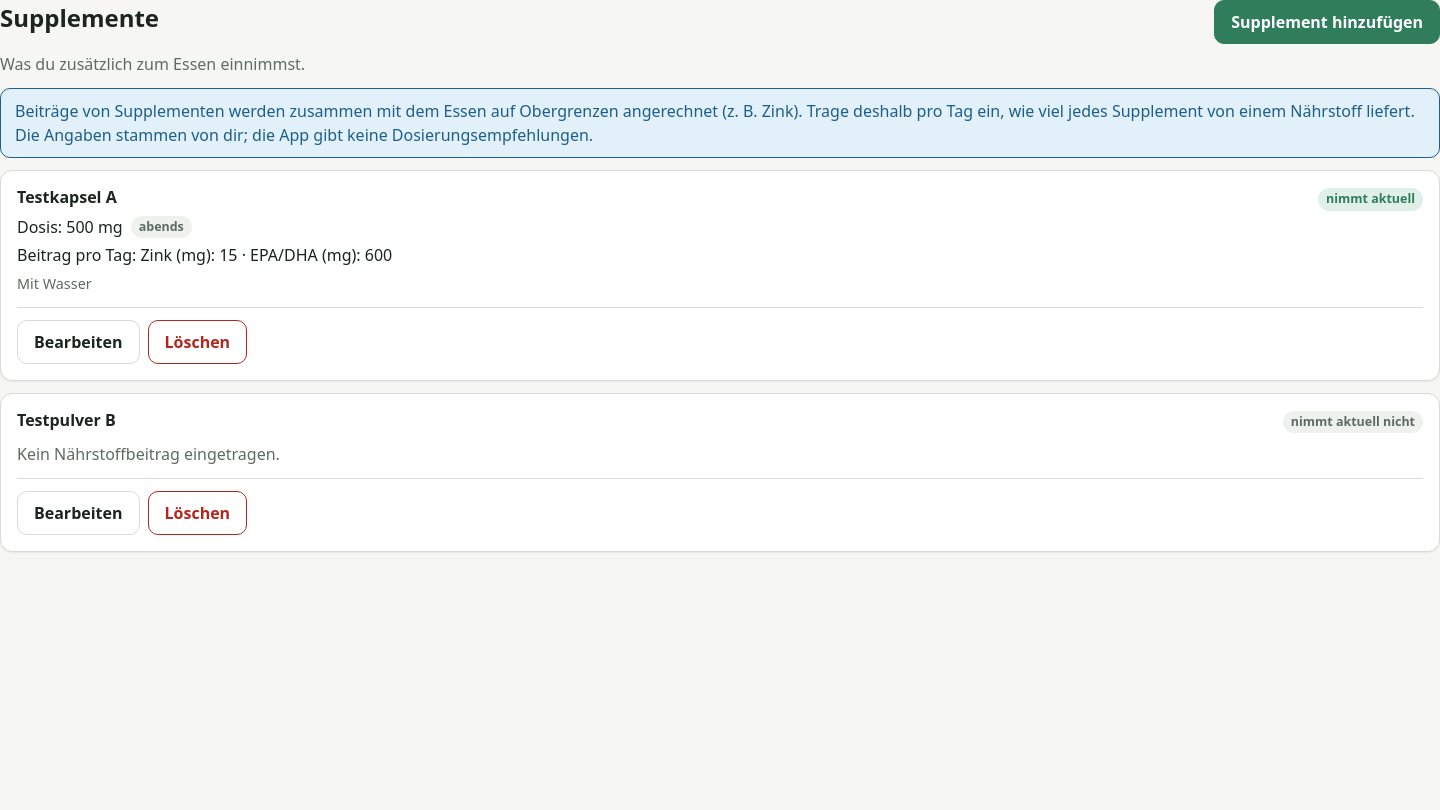
Test: Supplemente › löscht nach Rückfrage
Click the button with aria-label "Testpulver B löschen" at point(197, 513), box [148,491,247,535]
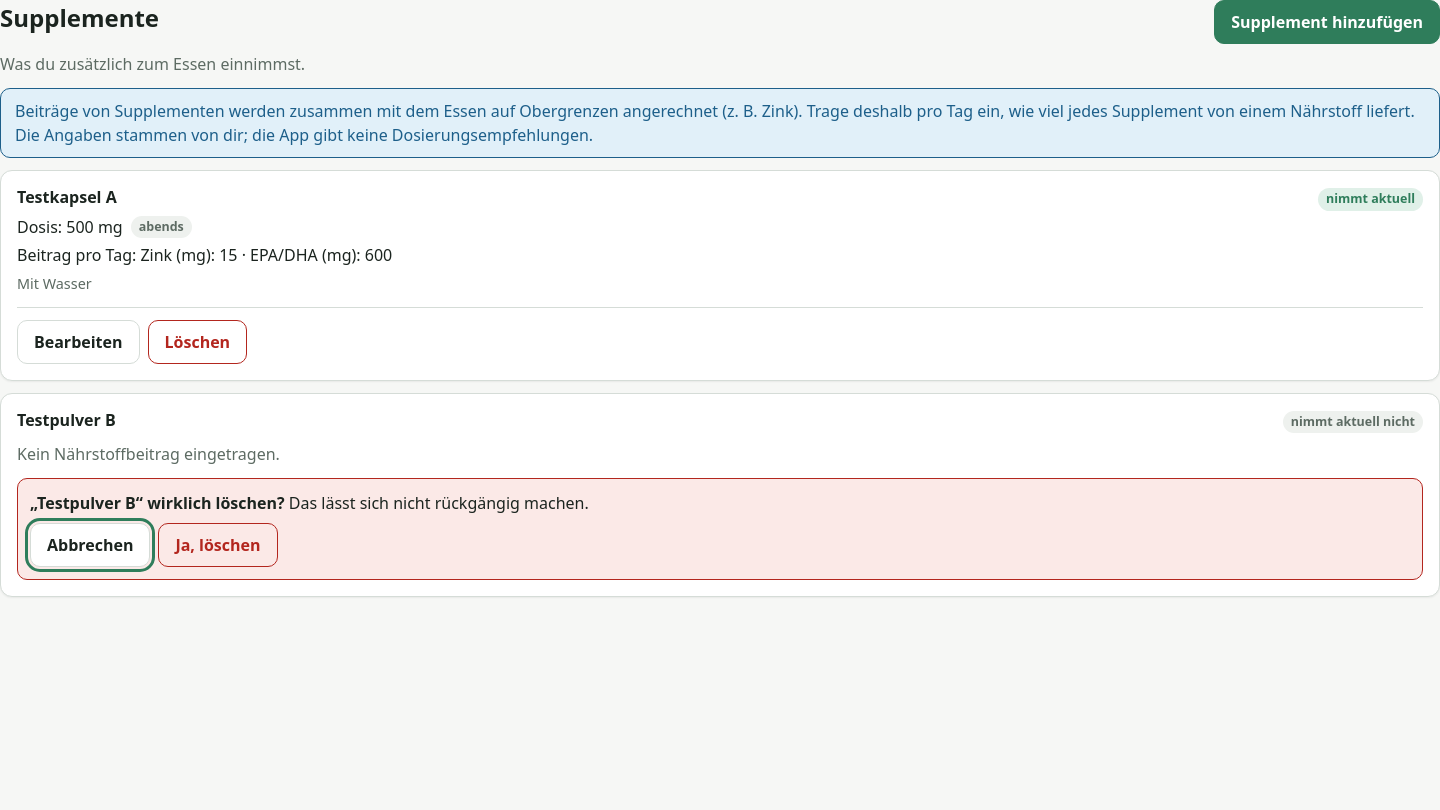
Click the button "Ja, löschen" at point(218, 545), box [158,523,278,567]
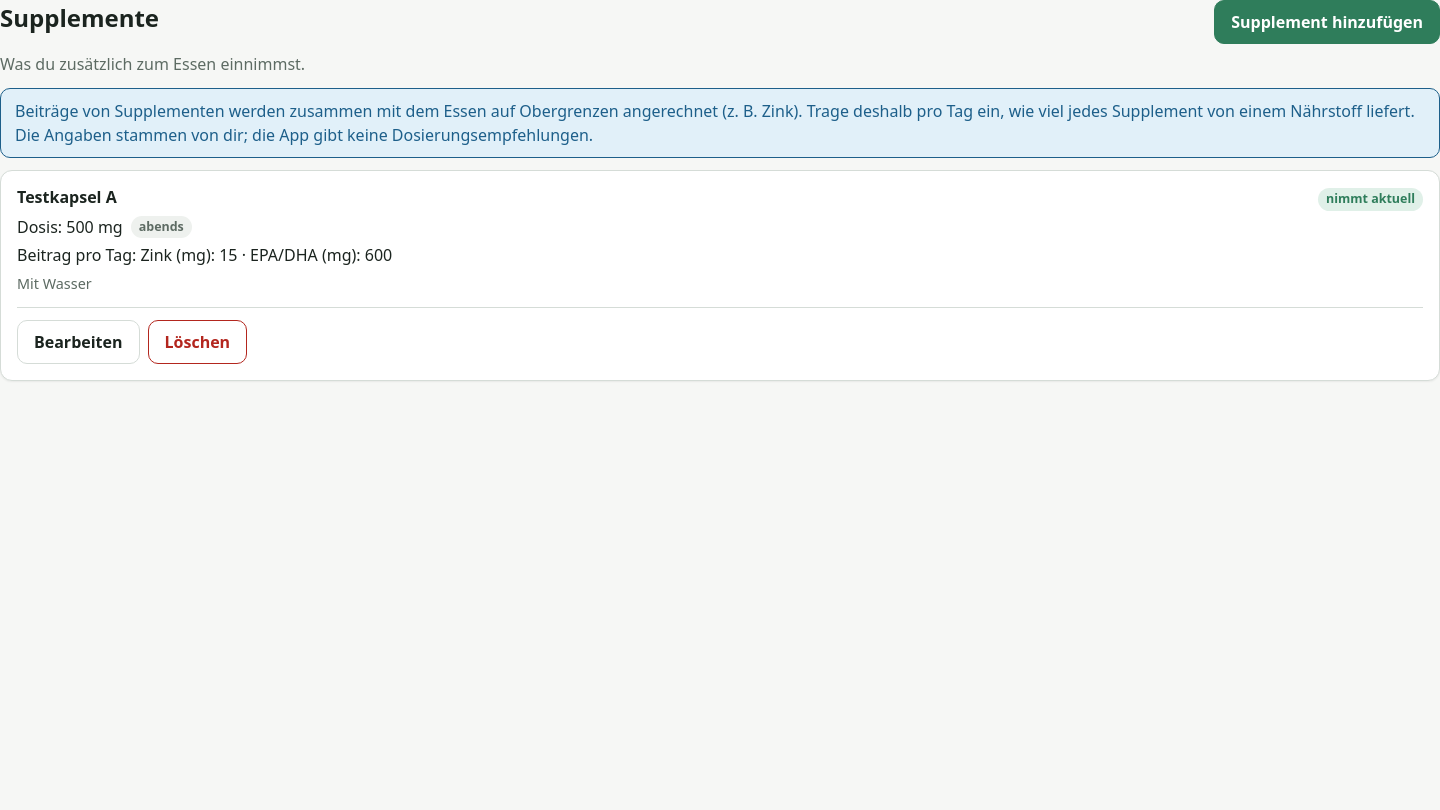
Expected: the heading "Testkapsel A" is shown, [17,187,117,207]
Expected: the heading "Testpulver B" is gone
